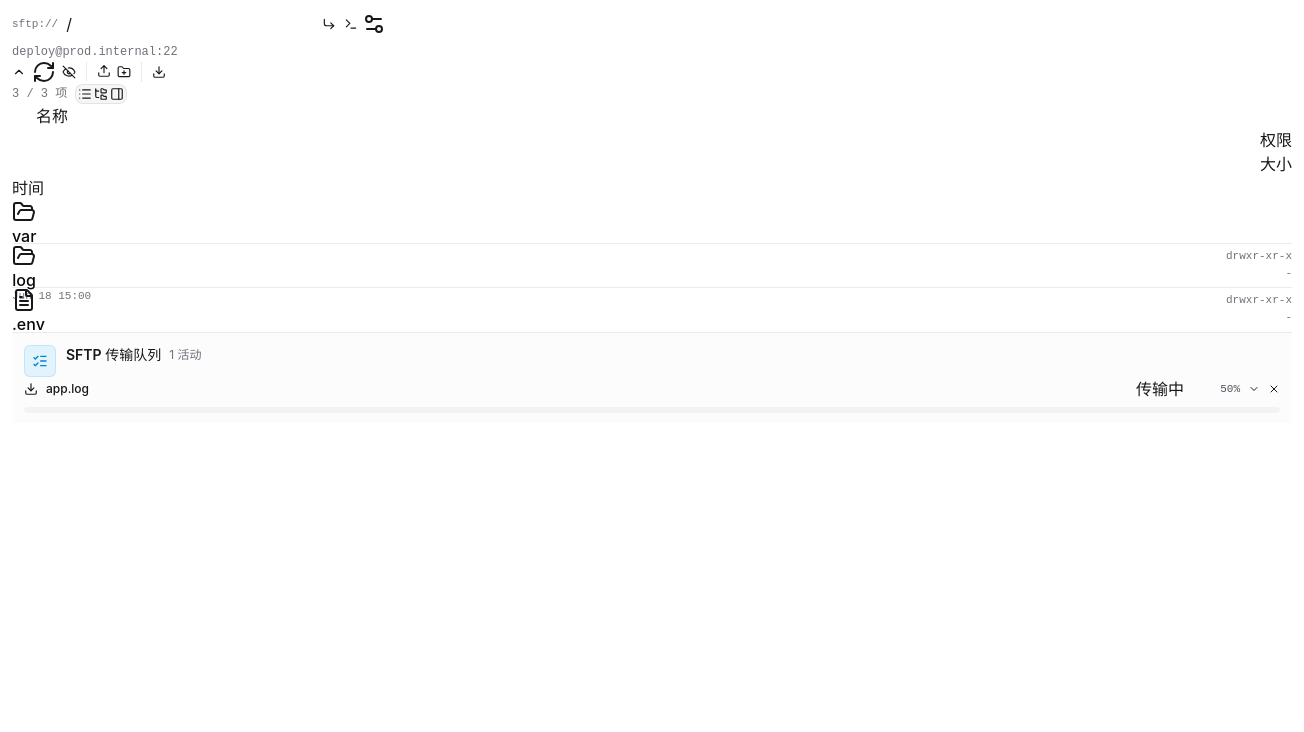
Test: SftpToolContent clipboard and selection › shows transfer progress and cancels a running transfer
Check: the message named "SFTP 传输状态" is shown, box [12,332,1292,423]
Check: the text "SFTP 传输队列" is shown, box [66,345,161,365]
Click the button named "查看传输详情 app.log" at (1254, 389), box [1248,383,1260,395]
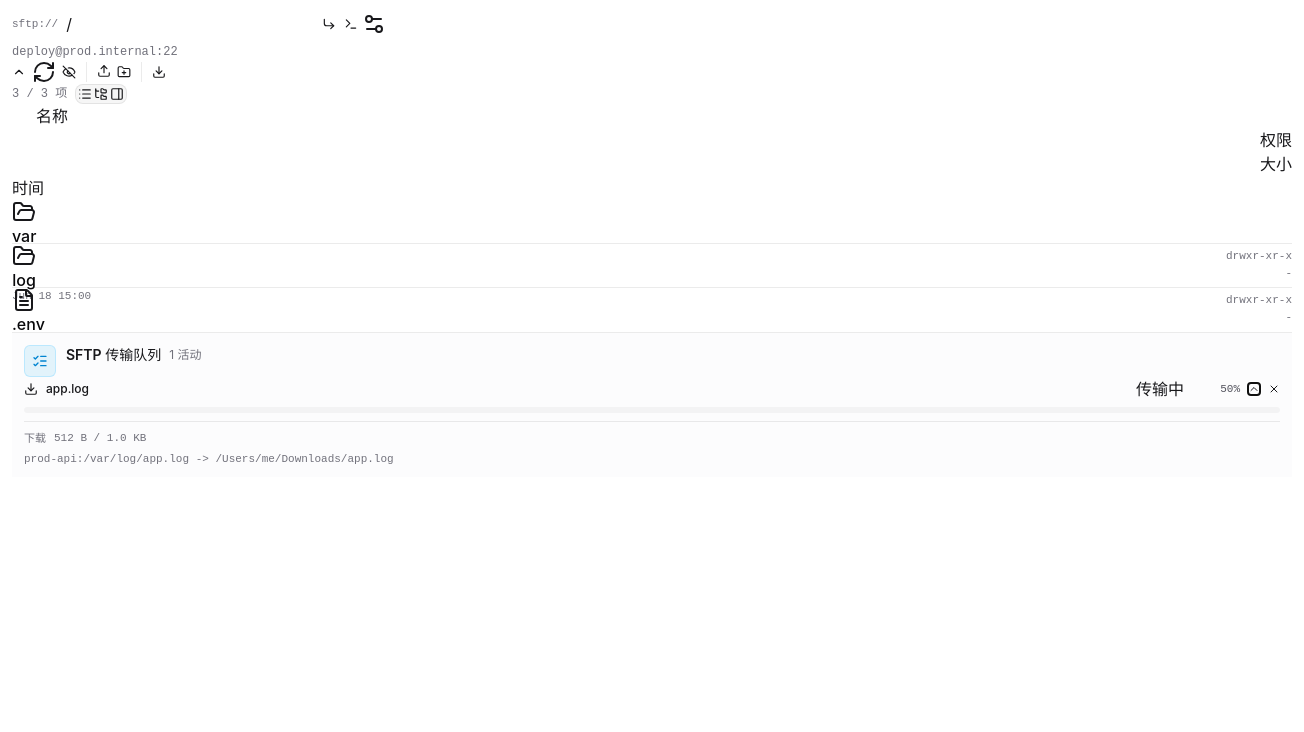
Check: the text "512 B / 1.0 KB" is shown, box [54,430,146,446]
Click the button named "取消传输 app.log" at (1274, 389), box [1268,383,1280,395]
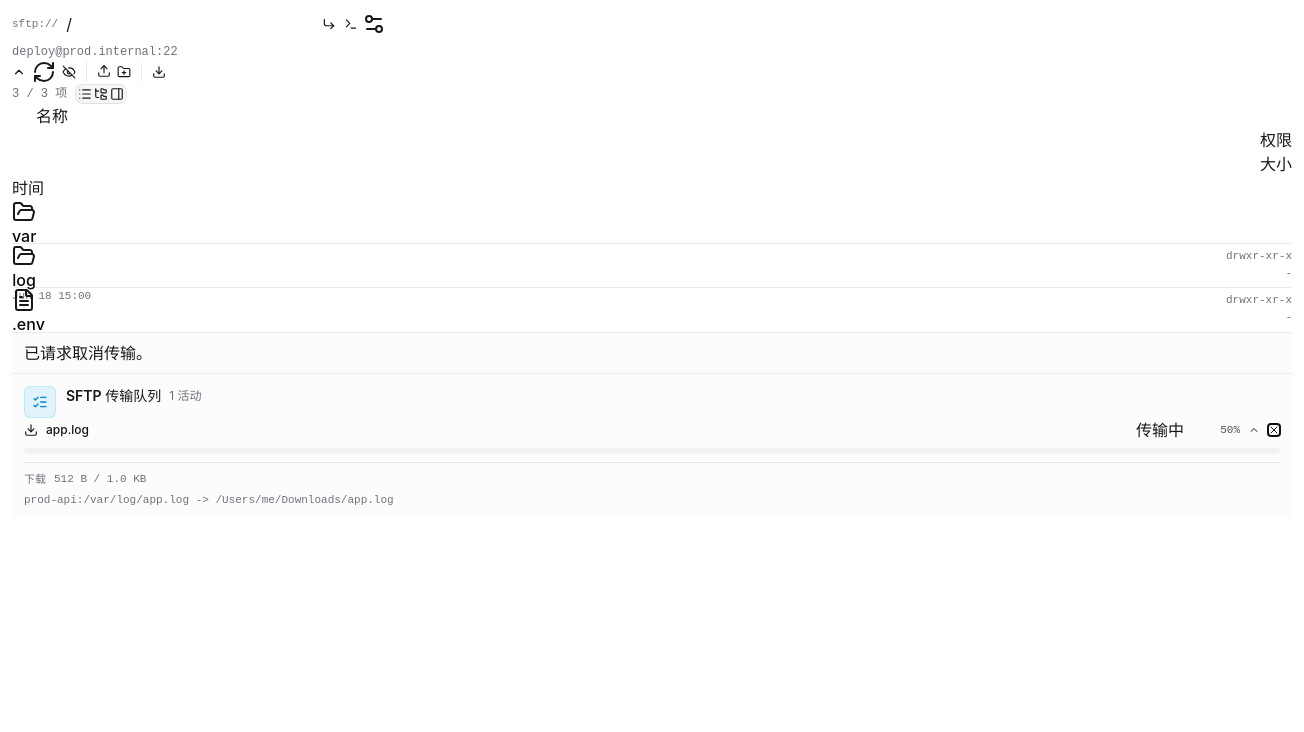
Check: the text "已请求取消传输。" is shown, box [24,343,152,363]
